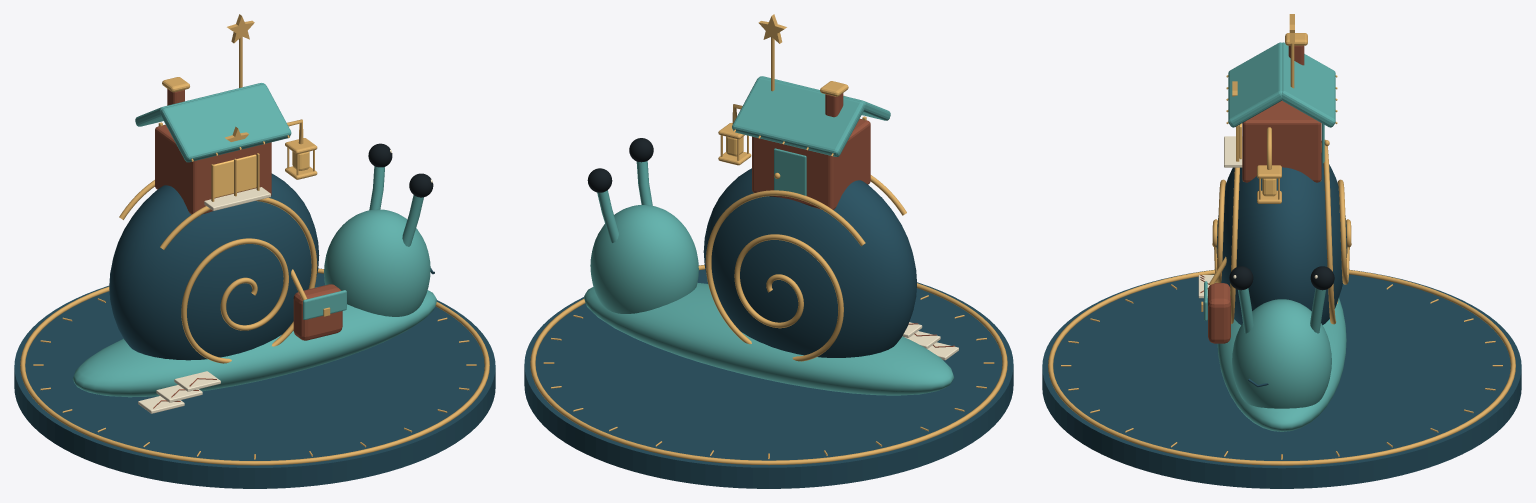
File: meadow_starpost_snail.glb
3 views of the same model, side by side, from view 1: azimuth 30°, elevation 25°; view 2: azimuth 150°, elevation 25°; view 3: azimuth 270°, elevation 25° (orthographic). The views are drawn at different scales.
Visible parts, largest first — view 1: Night route plinth, Large midnight shell, Soft snail foot, Raised curious head, Overhanging gable roof, Plinth brass rim, Post office body, Shell postal spiral, Postal satchel, Glowing counter window, Satchel flap, Window sill (+3 smaller); view 2: Night route plinth, Large midnight shell, Soft snail foot, Raised curious head, Overhanging gable roof.001, Post office body, Shell postal spiral.001, Plinth brass rim, Rear mail door, Eyestalk.001, Overhanging gable roof; view 3: Night route plinth, Large midnight shell, Raised curious head, Plinth brass rim, Post office body, Soft snail foot, Overhanging gable roof, Overhanging gable roof.001, Shell postal spiral.001, Shell postal spiral, Postal satchel.
Boxes of the visible parts, bbox=[...] form: Night route plinth: bbox=[14, 268, 495, 488]; Large midnight shell: bbox=[109, 173, 319, 360]; Soft snail foot: bbox=[72, 287, 436, 397]; Raised curious head: bbox=[324, 209, 430, 316]; Overhanging gable roof: bbox=[160, 84, 291, 162]; Plinth brass rim: bbox=[20, 268, 489, 465]; Post office body: bbox=[155, 124, 271, 214]; Shell postal spiral: bbox=[160, 197, 317, 363]; Postal satchel: bbox=[293, 284, 342, 340]; Glowing counter window: bbox=[214, 154, 256, 197]; Satchel flap: bbox=[303, 290, 346, 319]; Window sill: bbox=[204, 187, 270, 210]; Night route plinth: bbox=[524, 264, 1013, 488]; Large midnight shell: bbox=[703, 168, 916, 357]; Soft snail foot: bbox=[583, 282, 953, 395]; Raised curious head: bbox=[590, 205, 698, 313]; Overhanging gable roof.001: bbox=[732, 77, 864, 156]; Post office body: bbox=[752, 118, 870, 209]; Shell postal spiral.001: bbox=[705, 190, 865, 361]; Plinth brass rim: bbox=[530, 265, 1007, 465]; Rear mail door: bbox=[774, 148, 806, 195]; Eyestalk.001: bbox=[597, 190, 618, 242]; Overhanging gable roof: bbox=[759, 76, 890, 120]; Night route plinth: bbox=[1042, 269, 1521, 488]; Large midnight shell: bbox=[1216, 153, 1347, 324]; Raised curious head: bbox=[1232, 299, 1331, 408]; Plinth brass rim: bbox=[1048, 270, 1515, 465]; Post office body: bbox=[1242, 101, 1321, 182]; Soft snail foot: bbox=[1217, 298, 1346, 431]; Overhanging gable roof: bbox=[1228, 42, 1281, 127]; Overhanging gable roof.001: bbox=[1282, 42, 1335, 127]; Shell postal spiral.001: bbox=[1321, 139, 1351, 324]; Shell postal spiral: bbox=[1212, 167, 1239, 323]; Postal satchel: bbox=[1208, 283, 1230, 343].
Size of the model in its own units: 4.6 by 3.91 by 4.6.
